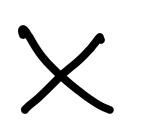mult: (18, 25, 113, 113)
